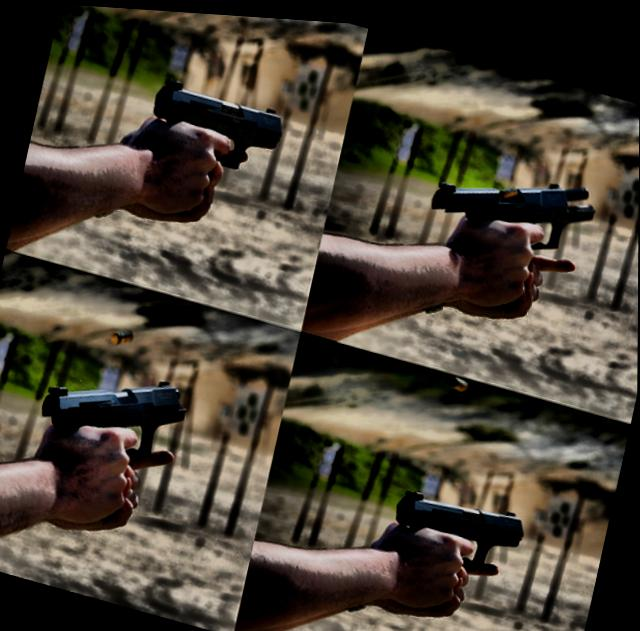pistol: (424, 130, 601, 256), (38, 344, 188, 460), (143, 72, 286, 176), (386, 468, 526, 566)
